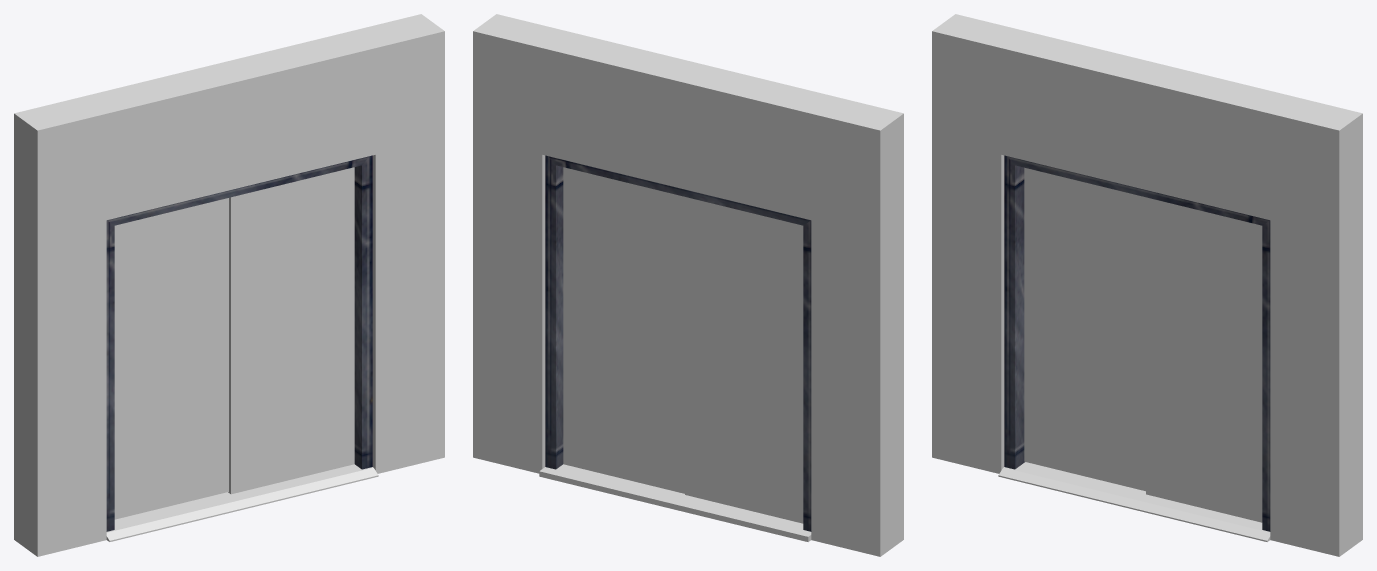
The model's file is SM_BLD_ELEVATOR_DOOR.fbx.
3 renders of one model, left to right at view 1: azimuth 30°, elevation 25°; view 2: azimuth 150°, elevation 25°; view 3: azimuth 330°, elevation 25°, orthographic.
Parts seen in each view (by area): view 1: ELEVATOR_WALLFRAME, ELEVATOR_DOOR; view 2: ELEVATOR_WALLFRAME, ELEVATOR_DOOR; view 3: ELEVATOR_WALLFRAME, ELEVATOR_DOOR.
Part boxes in pixels (x1=…): ELEVATOR_WALLFRAME: x1=14, y1=14, x2=444, y2=556; ELEVATOR_DOOR: x1=228, y1=167, x2=354, y2=494; ELEVATOR_WALLFRAME: x1=473, y1=14, x2=903, y2=556; ELEVATOR_DOOR: x1=563, y1=167, x2=684, y2=493; ELEVATOR_WALLFRAME: x1=932, y1=14, x2=1362, y2=556; ELEVATOR_DOOR: x1=1146, y1=197, x2=1262, y2=522.
Bounding box in the file's own units: 4 × 4 × 0.5.
